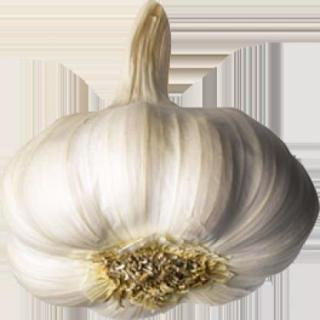Bawang Putih: (1, 100, 319, 319)
